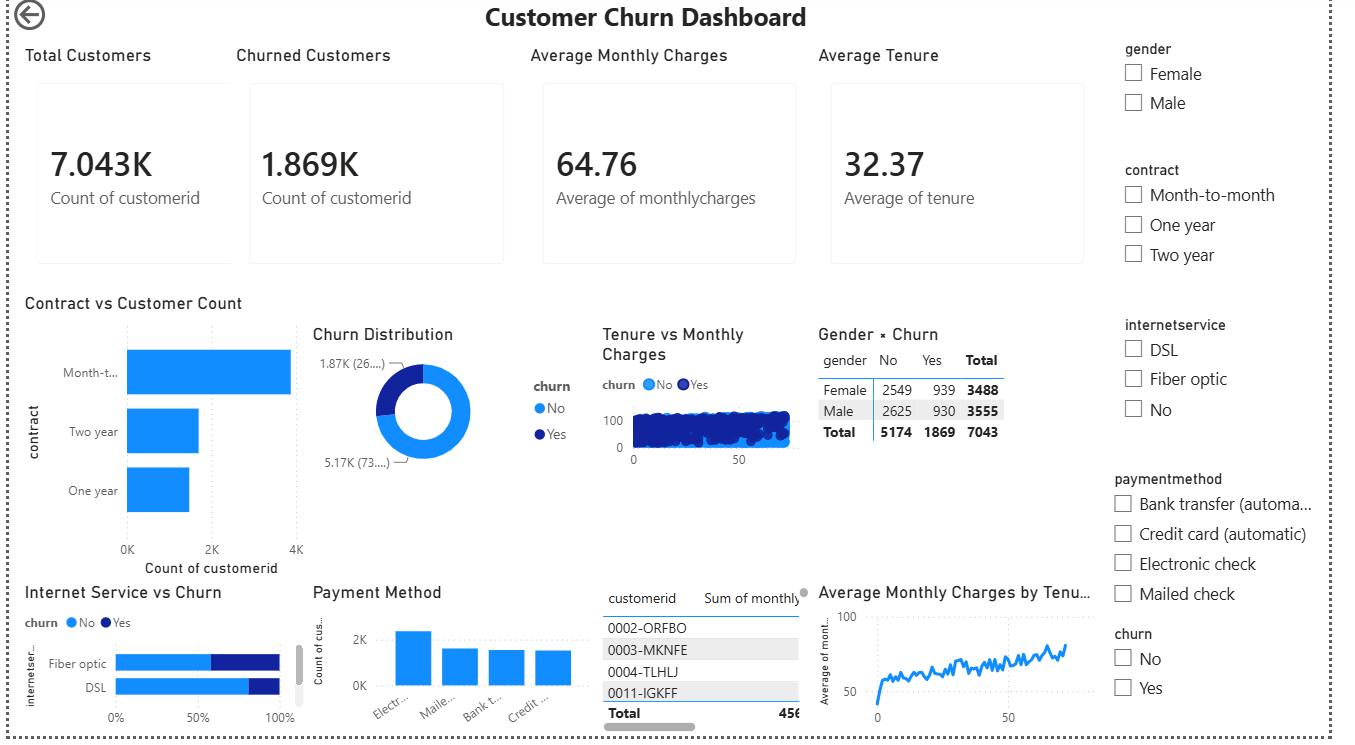

This screenshot's page, from the dashboard's own definition file:
{"tool":"powerbi","page":{"name":"Page 1","canvas":[1280,720],"ordinal":0},"visuals":[{"type":"cardVisual","title":"Total Customers","fields":{"Data":["CountNonNull(telco_cleaned.customerid)"]},"box":[10,50,280,230],"z":0},{"type":"cardVisual","title":"Churned Customers","fields":{"Data":["CountNonNull(telco_cleaned.customerid)"]},"box":[215,50,282.5,230],"z":1000},{"type":"cardVisual","title":"Average Monthly Charges","fields":{"Data":["Avg(telco_cleaned.monthlycharges)"]},"box":[500,50,280,230],"z":2000},{"type":"cardVisual","title":"Average Tenure","fields":{"Data":["Avg(telco_cleaned.tenure)"]},"box":[780,50,280,230],"z":3000},{"type":"clusteredBarChart","title":"Contract vs Customer Count","fields":{"Y":["CountNonNull(telco_cleaned.customerid)"],"Category":["telco_cleaned.contract"]},"box":[10,290,280,280],"z":4000},{"type":"donutChart","title":"Churn Distribution","fields":{"Category":["telco_cleaned.churn"],"Y":["CountNonNull(telco_cleaned.customerid)"]},"box":[290,320,280,150],"z":5000},{"type":"hundredPercentStackedBarChart","title":"Internet Service vs Churn","fields":{"Category":["telco_cleaned.internetservice"],"Y":["CountNonNull(telco_cleaned.customerid)"],"Series":["telco_cleaned.churn"]},"box":[10,570,280,150],"z":6000},{"type":"clusteredColumnChart","title":"Payment Method","fields":{"Y":["CountNonNull(telco_cleaned.customerid)"],"Category":["telco_cleaned.paymentmethod"]},"box":[290,570,280,150],"z":7000},{"type":"scatterChart","title":"Tenure vs Monthly Charges","fields":{"X":["Sum(telco_cleaned.tenure)"],"Y":["Sum(telco_cleaned.monthlycharges)"],"Series":["telco_cleaned.churn"],"Category":["telco_cleaned.customerid"]},"box":[570,320,210,150],"z":8000},{"type":"tableEx","fields":{"Values":["telco_cleaned.customerid","Sum(telco_cleaned.monthlycharges)","telco_cleaned.contract","telco_cleaned.churn"]},"box":[570,570,210,150],"z":9000},{"type":"actionButton","box":[0,0,100,40],"z":10000},{"type":"pivotTable","title":"Gender × Churn","fields":{"Rows":["telco_cleaned.gender"],"Columns":["telco_cleaned.churn"],"Values":["CountNonNull(telco_cleaned.customerid)"]},"box":[780,320,280,150],"z":11000},{"type":"lineChart","title":"Average Monthly Charges by Tenure","fields":{"Category":["telco_cleaned.tenure"],"Y":["Avg(telco_cleaned.monthlycharges)"]},"box":[780,570,280,150],"z":12000},{"type":"slicer","fields":{"Values":["telco_cleaned.gender"]},"box":[1070,40,210,97.5],"z":13000},{"type":"slicer","fields":{"Values":["telco_cleaned.contract"]},"box":[1070,157.5,210,150],"z":14000},{"type":"slicer","fields":{"Values":["telco_cleaned.internetservice"]},"box":[1070,307.5,210,150],"z":15000},{"type":"slicer","fields":{"Values":["telco_cleaned.paymentmethod"]},"box":[1060,457.5,210,150],"z":16000},{"type":"slicer","fields":{"Values":["telco_cleaned.churn"]},"box":[1060,607.5,210,112.5],"z":16001},{"type":"textbox","box":[392.5,0,450,50],"z":16002}]}

Visuals, with their boxes on the page's 1280x720 design canvas (x1, y1, x2, y2). These are canvas units, not pixel positions in the 1355x745 screenshot, which may show the page scaled, cropped or inside an application window:
"Total Customers" cardVisual: <bbox>10, 50, 290, 280</bbox>
"Churned Customers" cardVisual: <bbox>215, 50, 498, 280</bbox>
"Average Monthly Charges" cardVisual: <bbox>500, 50, 780, 280</bbox>
"Average Tenure" cardVisual: <bbox>780, 50, 1060, 280</bbox>
"Contract vs Customer Count" clusteredBarChart: <bbox>10, 290, 290, 570</bbox>
"Churn Distribution" donutChart: <bbox>290, 320, 570, 470</bbox>
"Internet Service vs Churn" hundredPercentStackedBarChart: <bbox>10, 570, 290, 720</bbox>
"Payment Method" clusteredColumnChart: <bbox>290, 570, 570, 720</bbox>
"Tenure vs Monthly Charges" scatterChart: <bbox>570, 320, 780, 470</bbox>
tableEx - telco_cleaned.customerid x Sum(telco_cleaned.monthlycharges): <bbox>570, 570, 780, 720</bbox>
actionButton: <bbox>0, 0, 100, 40</bbox>
"Gender × Churn" pivotTable: <bbox>780, 320, 1060, 470</bbox>
"Average Monthly Charges by Tenure" lineChart: <bbox>780, 570, 1060, 720</bbox>
slicer - telco_cleaned.gender: <bbox>1070, 40, 1280, 138</bbox>
slicer - telco_cleaned.contract: <bbox>1070, 158, 1280, 308</bbox>
slicer - telco_cleaned.internetservice: <bbox>1070, 308, 1280, 458</bbox>
slicer - telco_cleaned.paymentmethod: <bbox>1060, 458, 1270, 608</bbox>
slicer - telco_cleaned.churn: <bbox>1060, 608, 1270, 720</bbox>
textbox: <bbox>392, 0, 842, 50</bbox>
